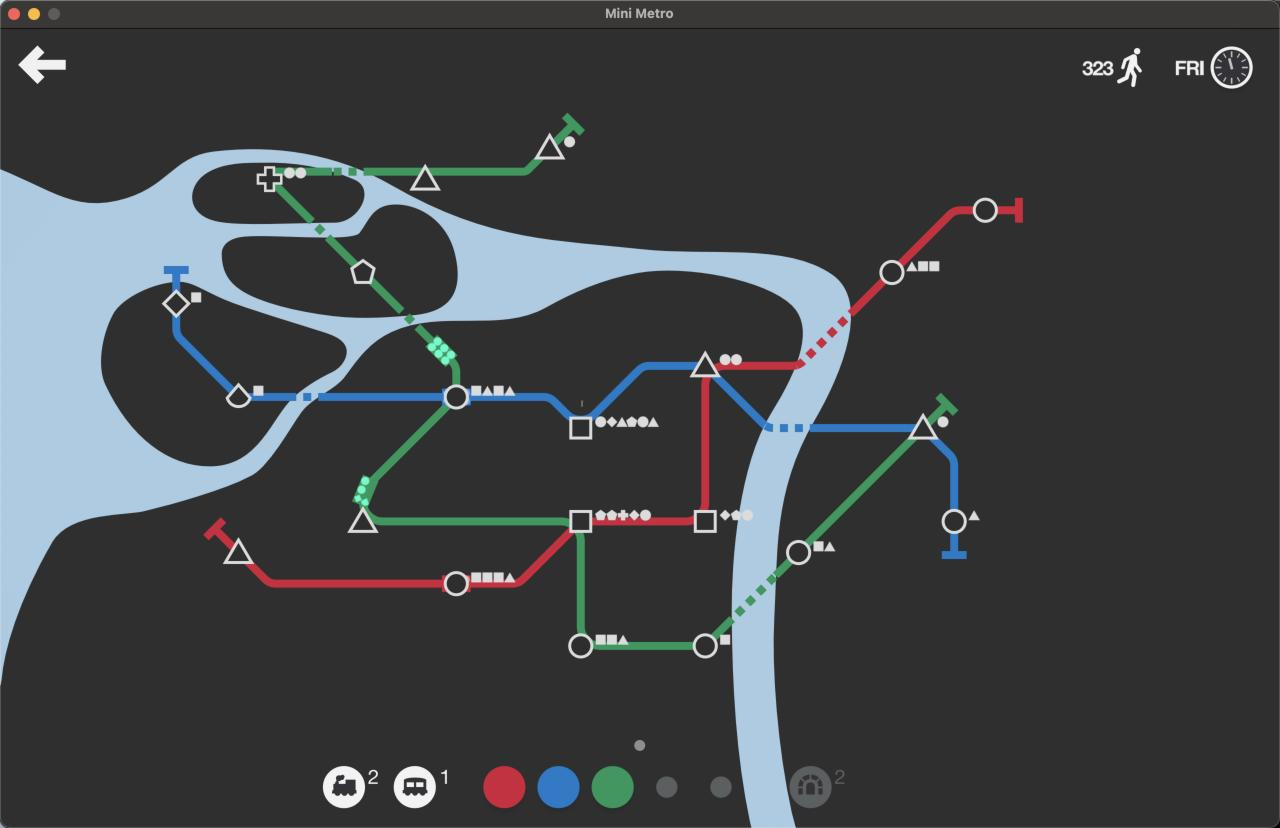CIRCLE: (785, 539, 812, 566), (941, 508, 968, 535), (443, 383, 470, 410), (443, 570, 470, 597), (972, 197, 998, 224), (879, 259, 905, 286), (692, 632, 718, 659), (568, 632, 594, 659)
CROSS: (255, 165, 283, 192)
GEM: (162, 289, 191, 317)
PENTAGON: (350, 259, 375, 285)
SQUARE: (569, 415, 593, 441), (694, 509, 717, 533), (569, 509, 592, 533)
TRIANGLE: (347, 504, 380, 534), (690, 350, 721, 379), (908, 411, 938, 440), (223, 537, 253, 566), (410, 163, 440, 192), (535, 133, 564, 161)
WEDGE: (225, 382, 252, 408)
